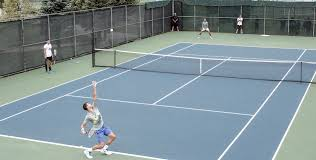tennis_ball: (108, 26, 114, 32)
